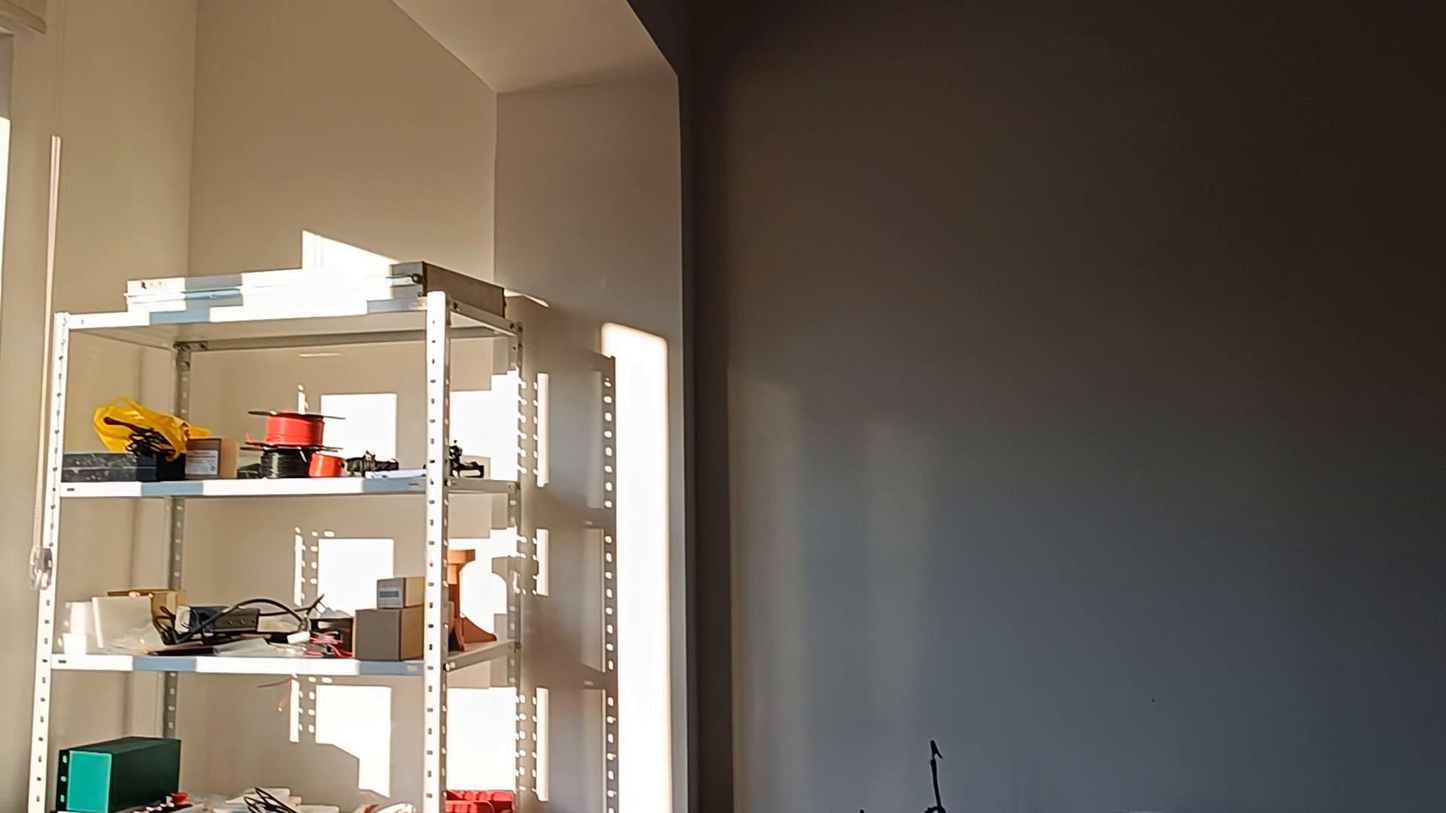ceiling: (392, 0, 682, 93)
wall: (635, 1, 1445, 812), (53, 0, 668, 809)
